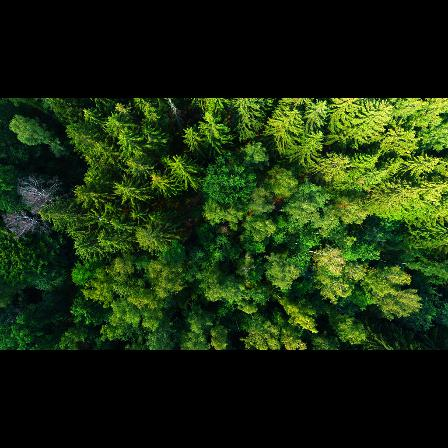Dead: (17, 176, 63, 210), (1, 212, 51, 240), (161, 99, 191, 140)
